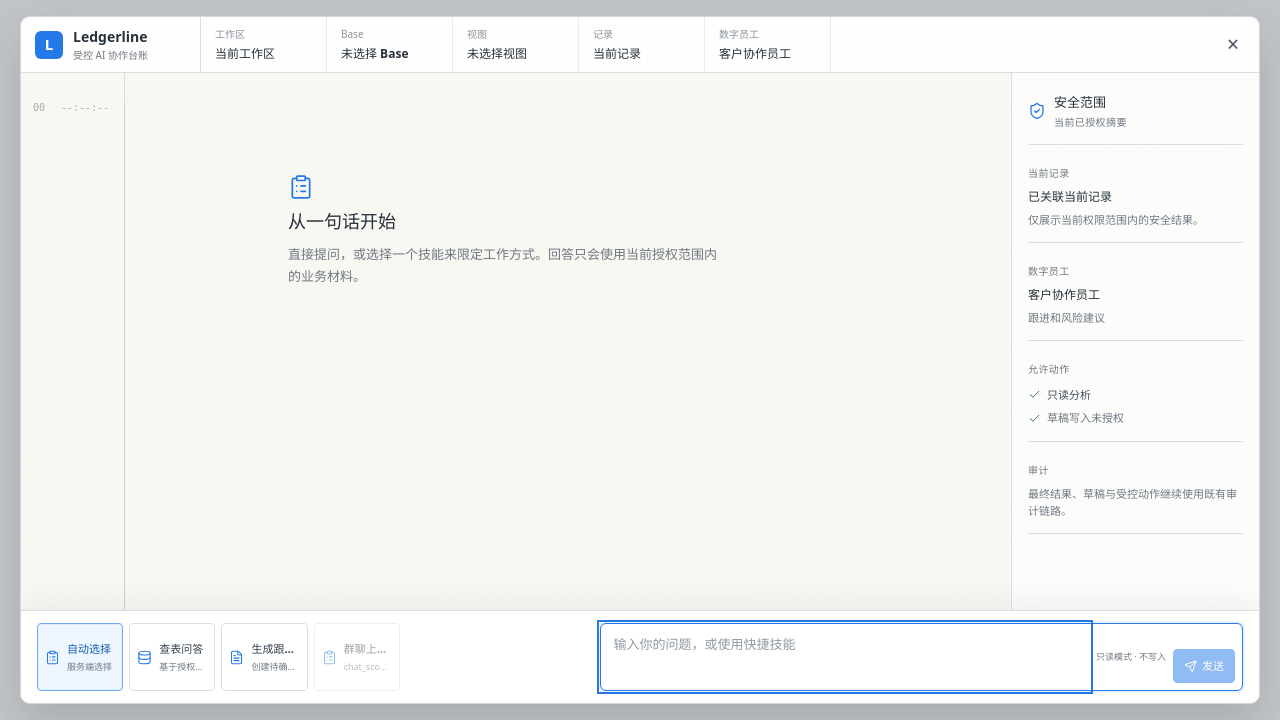
Test: stop only ends viewing, stays inline, and never offers automatic draft retry
Click the button "生成跟进草稿 创建待确认草稿".
click(265, 657)  # box [222,623,308,691]
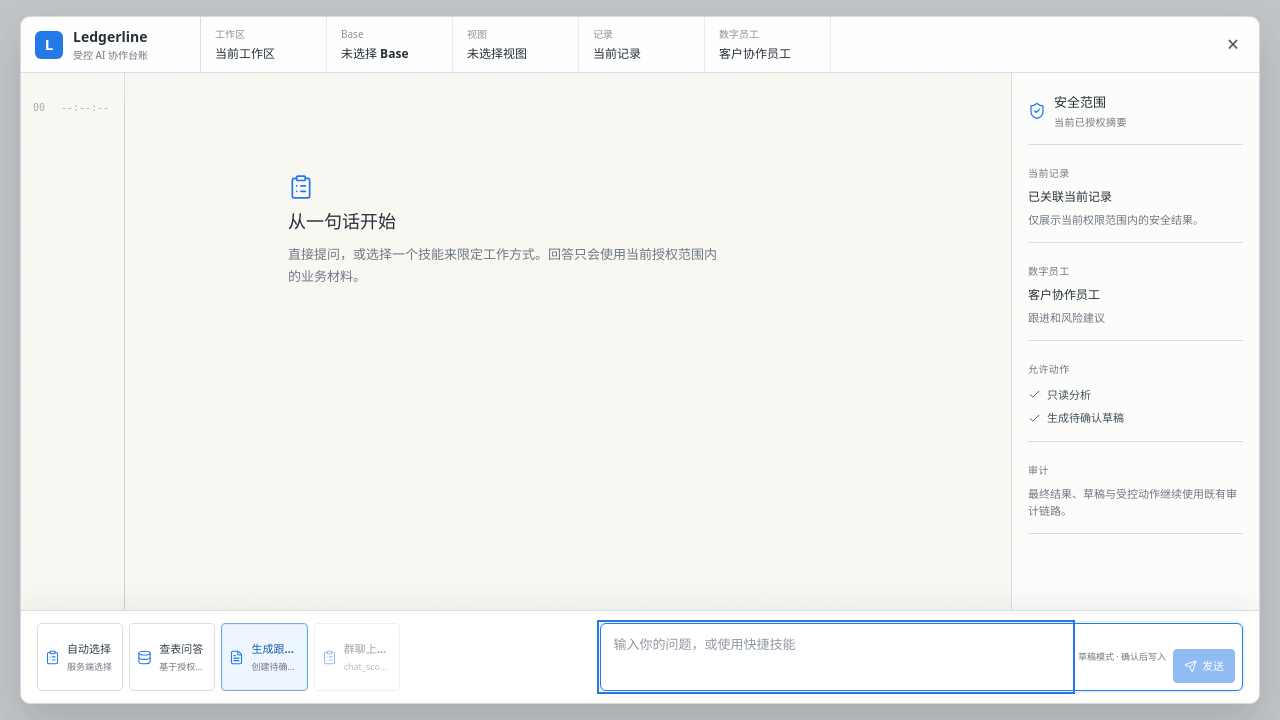
Type "生成一份跟进草稿" into the text box named "协作问题".
click(836, 657); type("生成一份跟进草稿")  # box [601,624,1071,690]
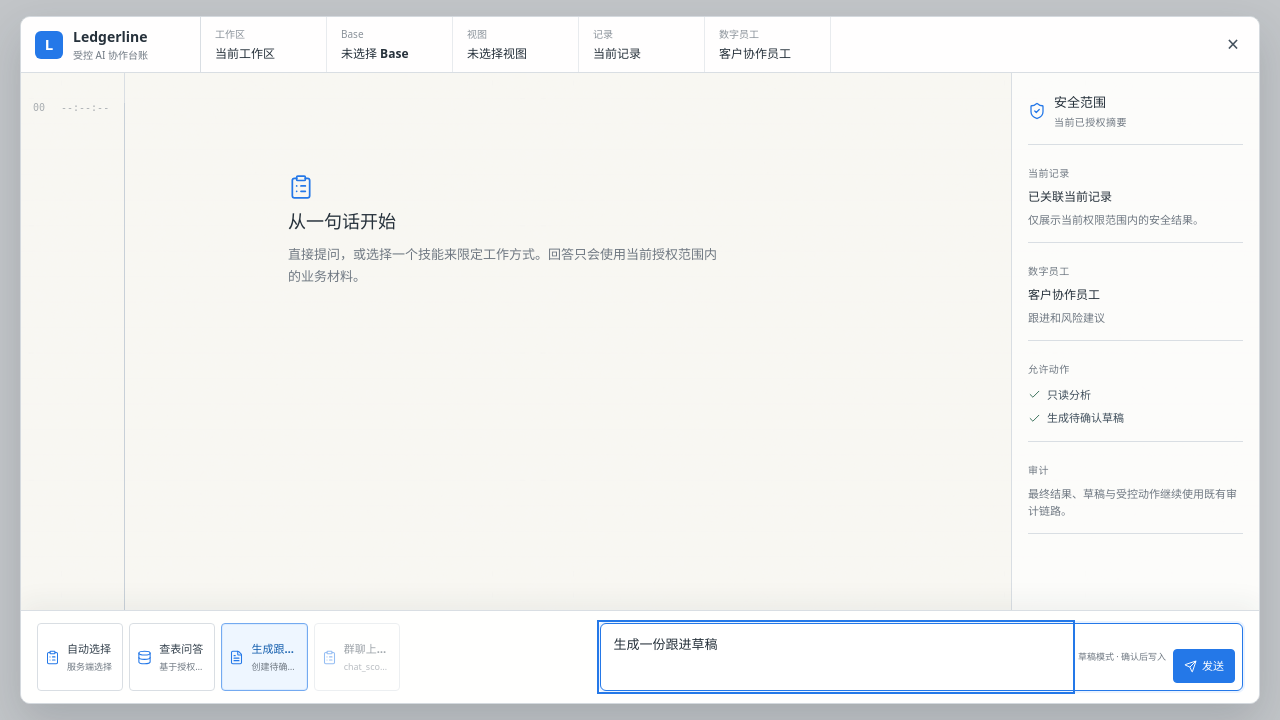
Press Enter in the text box named "协作问题", box [601,624,1071,690]
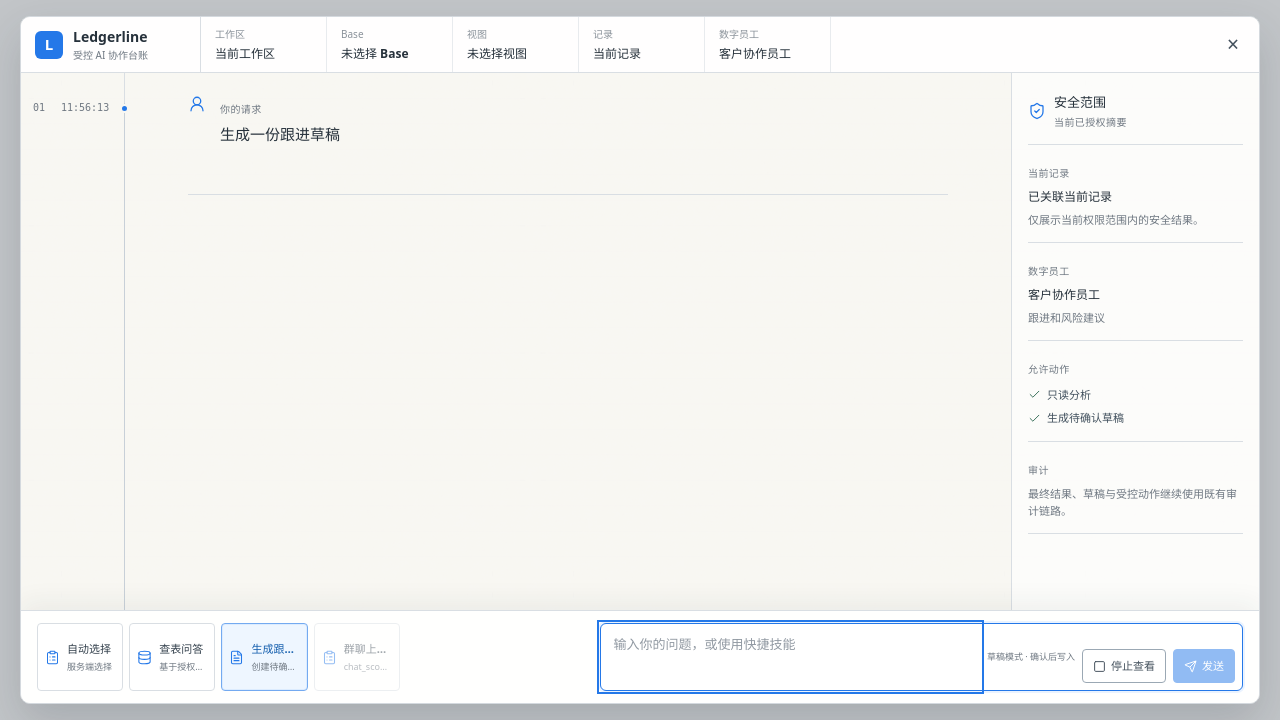
Click the button "停止查看".
click(1124, 666)  # box [1082,649,1166,683]
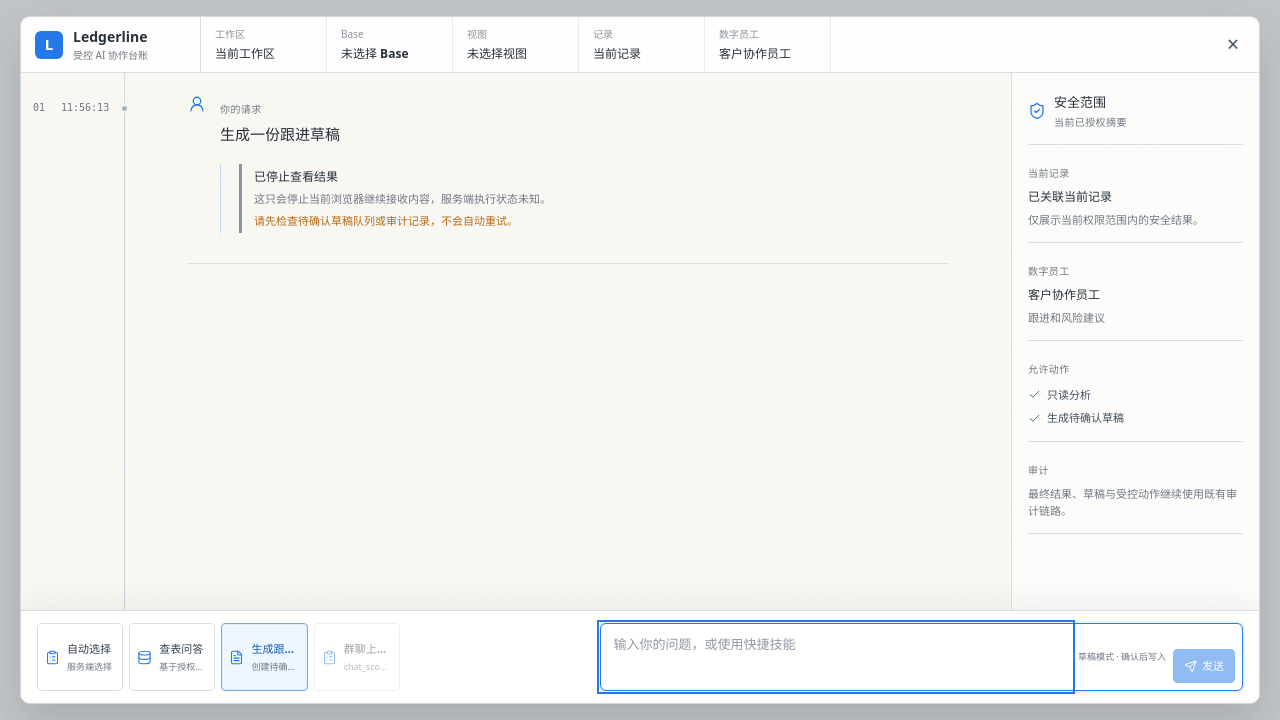
Check: the text "已停止查看结果" is shown, box [254,168,338,186]
